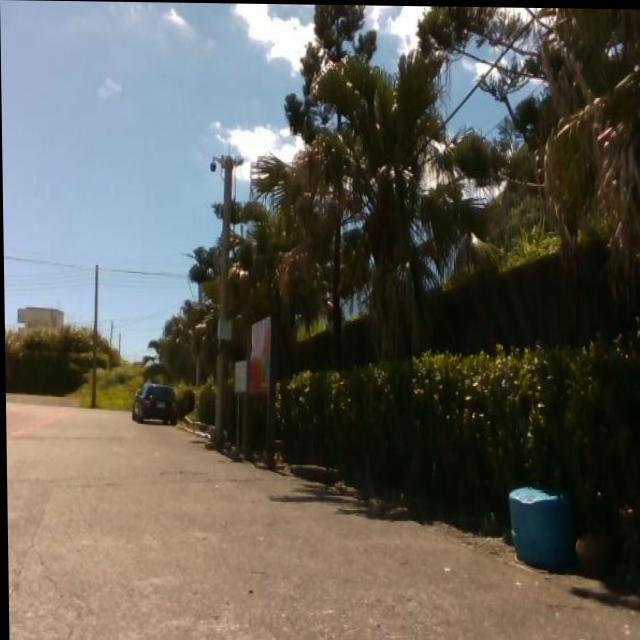pollute: (501, 482, 576, 575)
